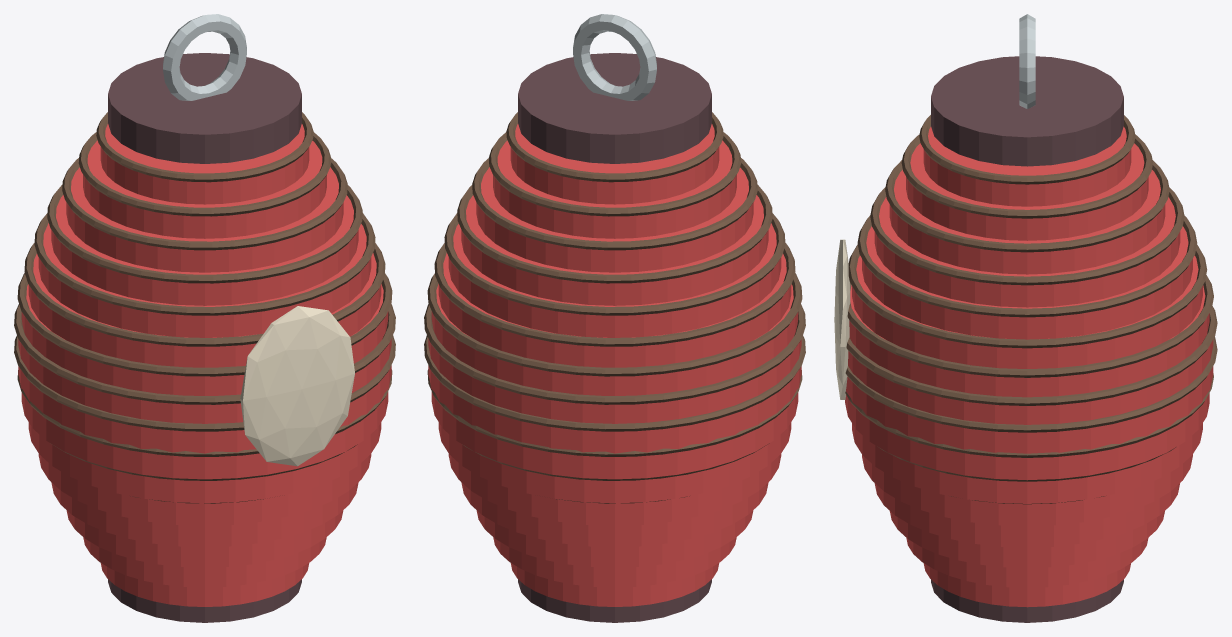
File: home_chochin.glb
3 views of the same model, side by side, from view 1: azimuth 30°, elevation 25°; view 2: azimuth 150°, elevation 25°; view 3: azimuth 270°, elevation 25° (orthographic).
Visible parts, largest first — view 1: Chochin top cap, Handpainted white circle, Concertina chochin red rib12, Concertina chochin red rib13, Concertina chochin red rib11, Concertina chochin red rib5, Concertina chochin red rib14, Concertina chochin red rib6, Concertina chochin red rib4, Concertina chochin red rib15, Concertina chochin red rib10, Concertina chochin red rib3 (+19 smaller); view 2: Chochin top cap, Concertina chochin red rib11, Concertina chochin red rib12, Concertina chochin red rib10, Concertina chochin red rib13, Concertina chochin red rib6, Concertina chochin red rib7, Concertina chochin red rib5, Concertina chochin red rib9, Concertina chochin red rib14, Concertina chochin red rib4, Concertina chochin red rib8 (+18 smaller); view 3: Chochin top cap, Concertina chochin red rib11, Concertina chochin red rib12, Concertina chochin red rib10, Concertina chochin red rib13, Concertina chochin red rib6, Concertina chochin red rib5, Concertina chochin red rib7, Concertina chochin red rib14, Concertina chochin red rib9, Concertina chochin red rib4, Concertina chochin red rib8 (+19 smaller).
Boxes of the visible parts, x1,y1,x2,y2 form: Chochin top cap: [108, 53, 301, 163]; Handpainted white circle: [240, 306, 354, 466]; Concertina chochin red rib12: [51, 195, 358, 305]; Concertina chochin red rib13: [66, 167, 343, 272]; Concertina chochin red rib11: [38, 223, 371, 337]; Concertina chochin red rib5: [28, 422, 381, 503]; Concertina chochin red rib14: [83, 140, 326, 238]; Concertina chochin red rib6: [21, 392, 388, 479]; Concertina chochin red rib4: [38, 454, 371, 525]; Concertina chochin red rib15: [100, 124, 309, 204]; Concertina chochin red rib10: [28, 253, 381, 367]; Concertina chochin red rib3: [51, 482, 358, 547]; Chochin top cap: [518, 53, 711, 163]; Concertina chochin red rib11: [448, 223, 781, 337]; Concertina chochin red rib12: [461, 195, 768, 305]; Concertina chochin red rib10: [438, 253, 791, 367]; Concertina chochin red rib13: [476, 167, 753, 272]; Concertina chochin red rib6: [431, 392, 798, 479]; Concertina chochin red rib7: [428, 365, 801, 453]; Concertina chochin red rib5: [438, 422, 791, 503]; Concertina chochin red rib9: [431, 284, 798, 395]; Concertina chochin red rib14: [493, 140, 736, 238]; Concertina chochin red rib4: [448, 454, 781, 525]; Concertina chochin red rib8: [428, 338, 801, 423]; Chochin top cap: [931, 56, 1123, 166]; Concertina chochin red rib11: [862, 226, 1192, 339]; Concertina chochin red rib12: [874, 197, 1180, 307]; Concertina chochin red rib10: [852, 255, 1202, 368]; Concertina chochin red rib13: [889, 170, 1165, 274]; Concertina chochin red rib6: [845, 393, 1209, 480]; Concertina chochin red rib5: [852, 423, 1202, 503]; Concertina chochin red rib7: [846, 366, 1213, 453]; Concertina chochin red rib14: [906, 143, 1148, 240]; Concertina chochin red rib9: [849, 285, 1209, 397]; Concertina chochin red rib4: [862, 454, 1192, 526]; Concertina chochin red rib8: [848, 339, 1213, 424].
Size of the model in its own units: 1.19 by 1.95 by 1.2.
